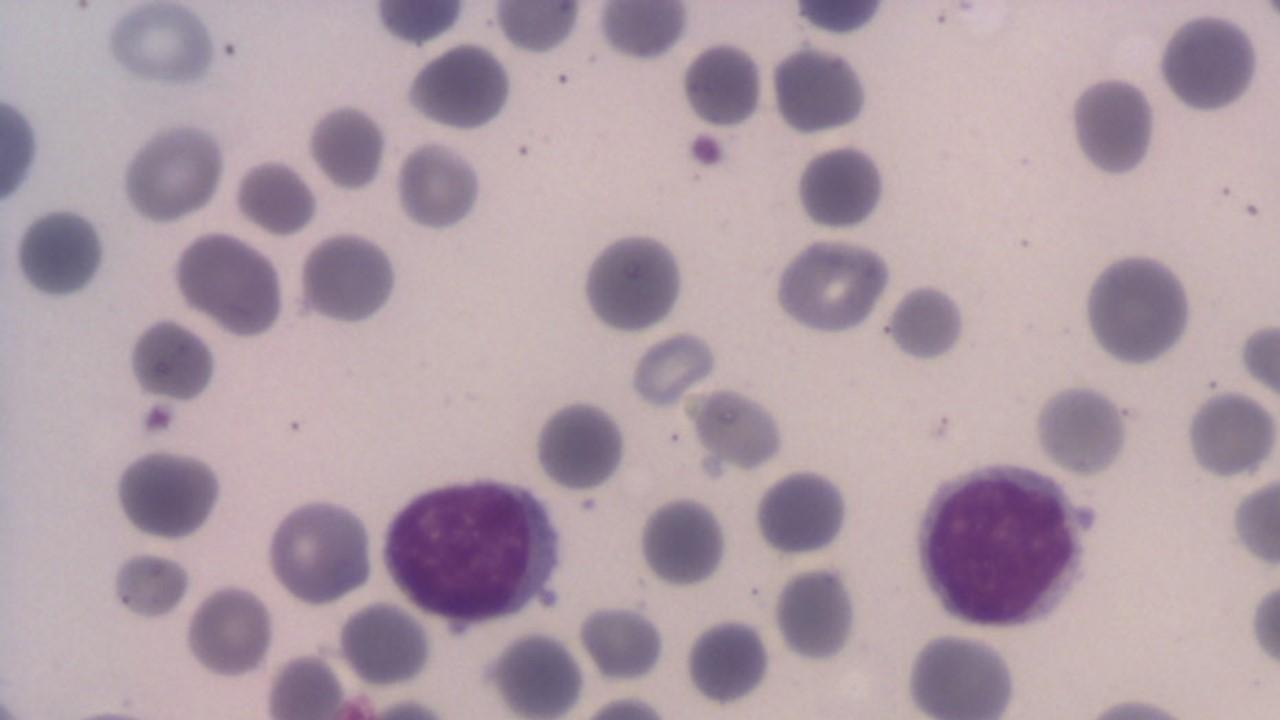Platelets: (576, 228, 693, 336), (1151, 10, 1261, 115), (1063, 72, 1159, 180), (10, 204, 114, 302), (1028, 382, 1134, 478), (529, 396, 633, 492), (750, 464, 856, 558), (790, 140, 892, 234), (635, 492, 730, 592), (392, 137, 487, 234), (770, 564, 860, 666), (681, 614, 774, 706), (306, 99, 391, 194), (124, 318, 219, 403), (678, 39, 765, 129), (883, 279, 968, 365), (107, 550, 195, 622), (789, 1, 890, 38), (684, 128, 730, 172), (137, 400, 181, 439)
RBC: (1081, 248, 1195, 369), (576, 224, 690, 340), (174, 229, 286, 340), (1151, 8, 1265, 117), (770, 234, 892, 334), (263, 492, 370, 606), (115, 118, 229, 225), (109, 446, 227, 544), (296, 228, 404, 330), (101, 1, 218, 92), (402, 40, 516, 133), (182, 578, 277, 682), (768, 43, 870, 139), (634, 493, 731, 590), (1180, 387, 1280, 481), (335, 596, 435, 689), (393, 136, 484, 236), (124, 315, 220, 403), (681, 616, 772, 706), (678, 37, 765, 129), (576, 599, 667, 684), (230, 154, 320, 236), (594, 1, 690, 64), (492, 0, 586, 57), (1227, 472, 1279, 574), (1236, 318, 1280, 398)
WBC: (3, 0, 566, 720), (907, 456, 1103, 636), (370, 466, 568, 628), (402, 39, 520, 136), (766, 42, 876, 138), (1, 79, 47, 216), (365, 1, 473, 43), (784, 1, 892, 36)
